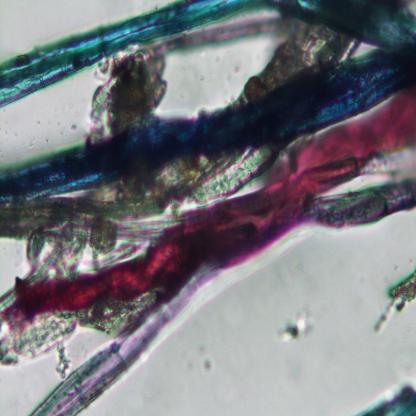Background material: (85, 41, 169, 135), (374, 264, 416, 333), (276, 308, 315, 341), (54, 345, 70, 380)
Cellulose filter fibre: (0, 142, 263, 284), (32, 280, 213, 414), (235, 27, 347, 92), (313, 174, 416, 231)
Cotton: (5, 89, 416, 325), (0, 41, 414, 206), (0, 0, 252, 108), (287, 1, 416, 46), (352, 374, 416, 415)
